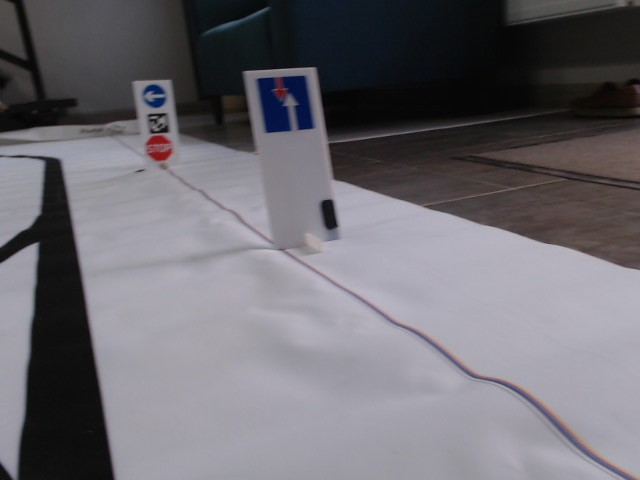Stop: (144, 134, 173, 161)
priority_movement: (255, 75, 317, 133)
